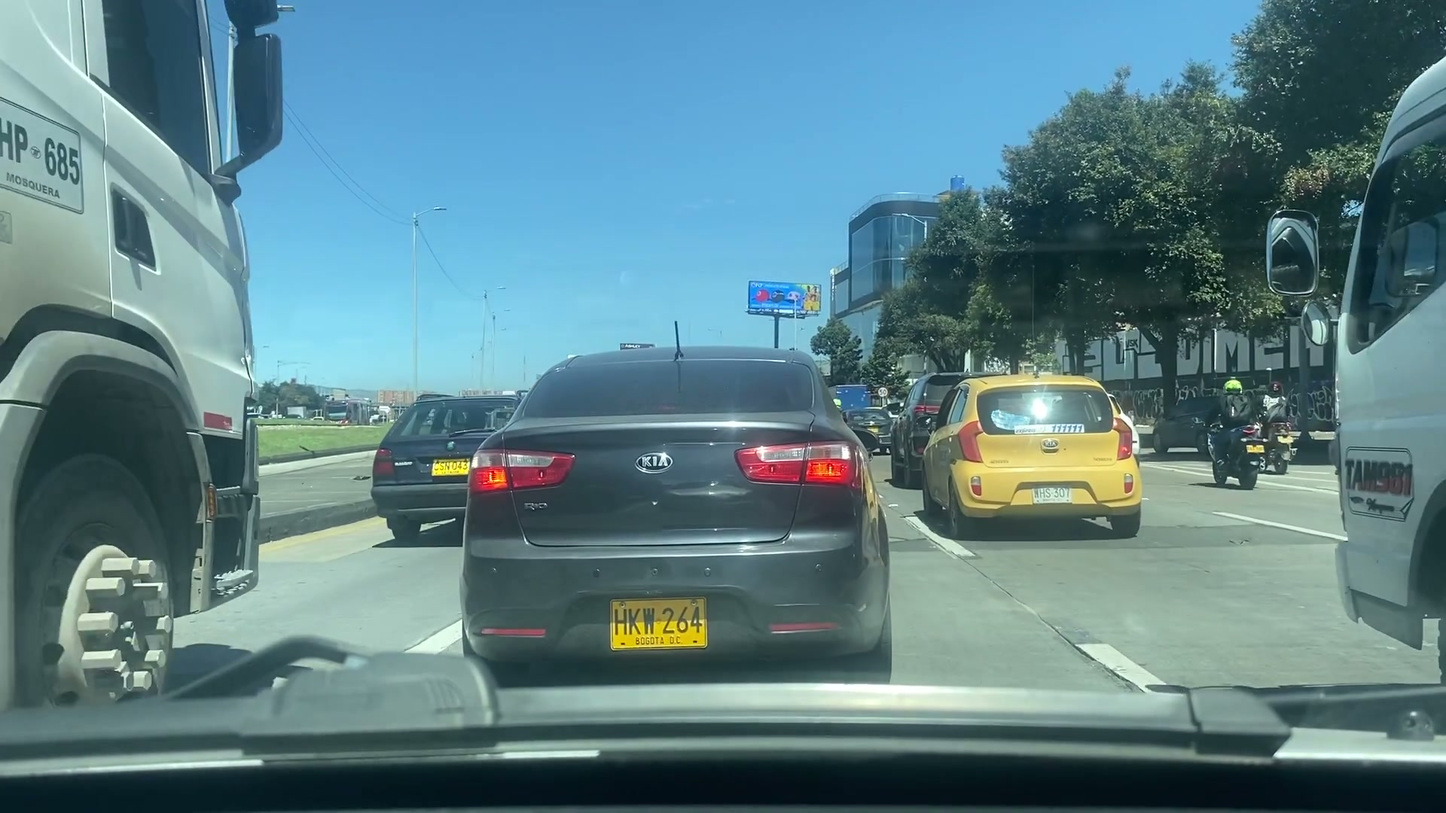car: (466, 345, 894, 685), (918, 374, 1144, 533), (377, 387, 534, 550), (888, 372, 1010, 490), (1149, 393, 1231, 453), (844, 409, 901, 454)
motorcycle: (1197, 419, 1265, 487), (1258, 420, 1299, 474)
person: (1211, 380, 1250, 461), (1259, 382, 1290, 448)
truck: (0, 0, 283, 714), (1259, 44, 1446, 684), (828, 385, 870, 420)
